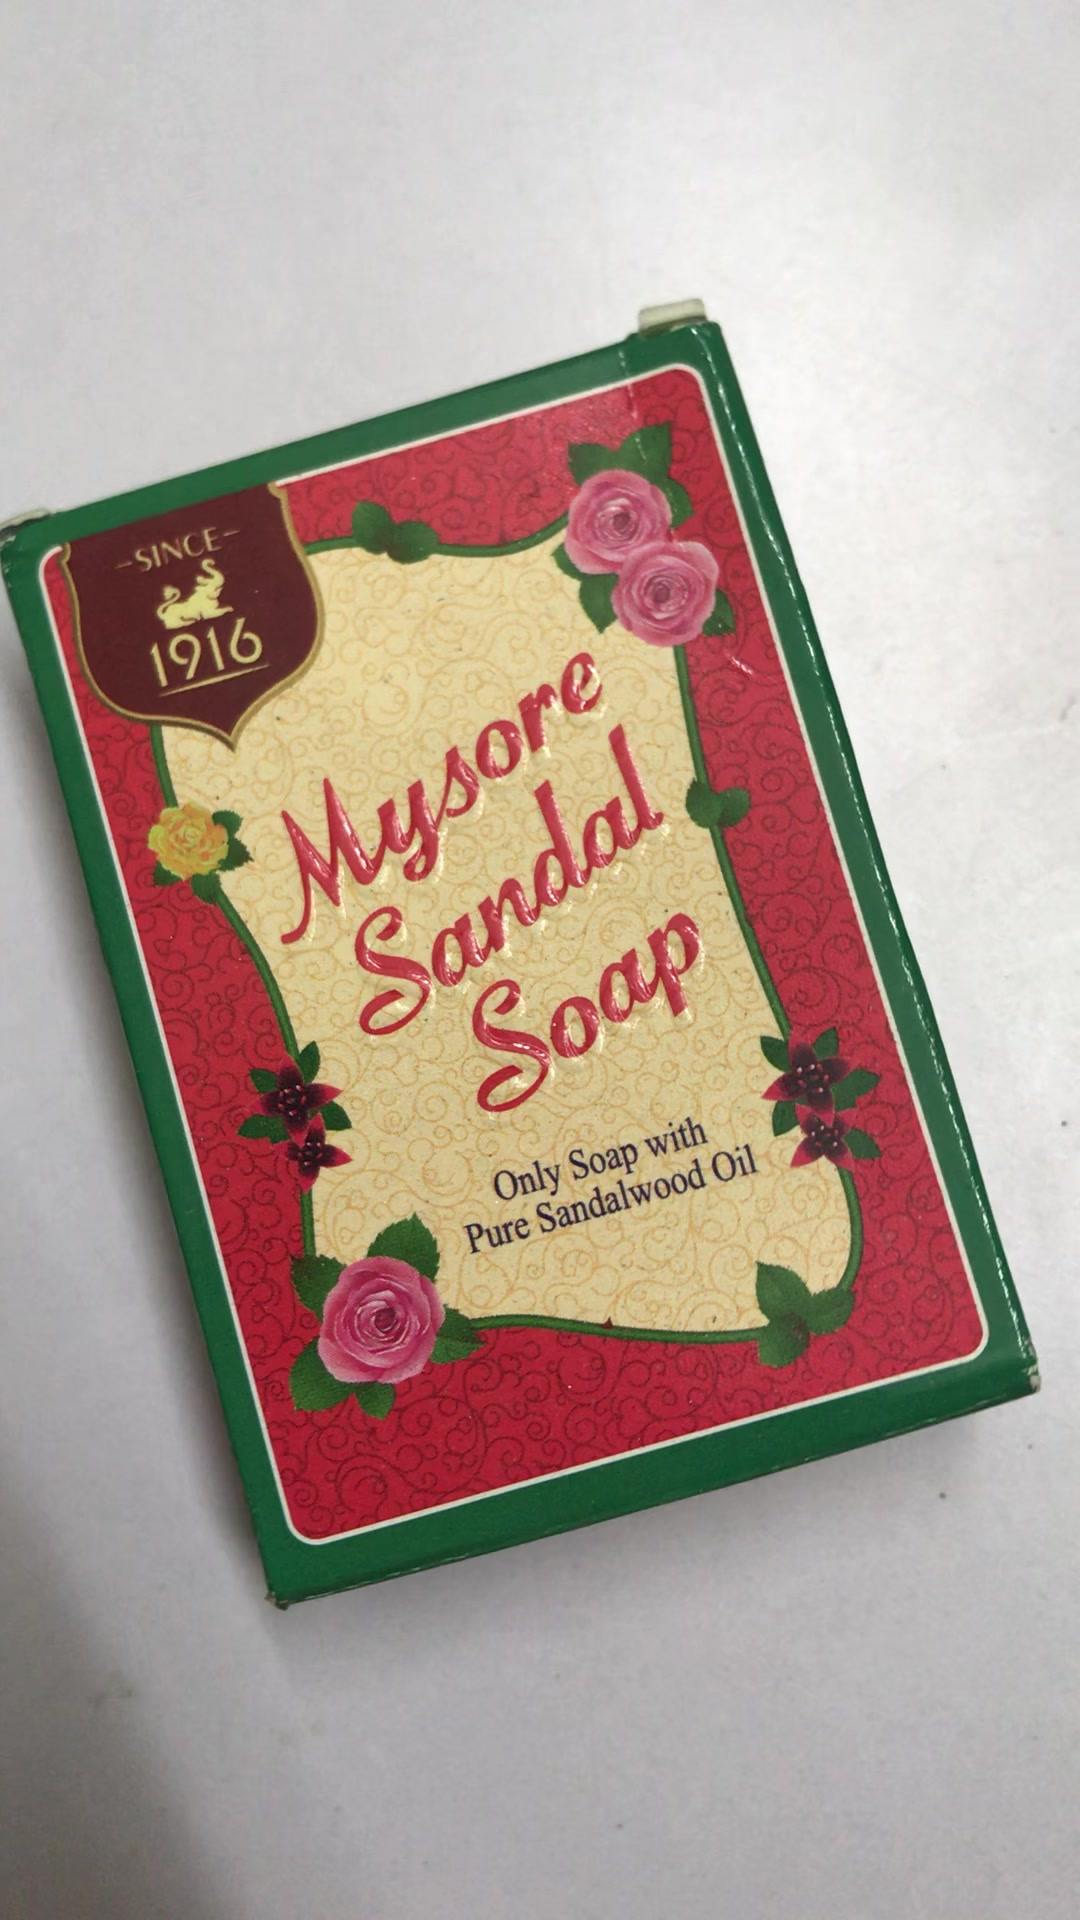mysore sandal soap: (15, 306, 1043, 1611)
